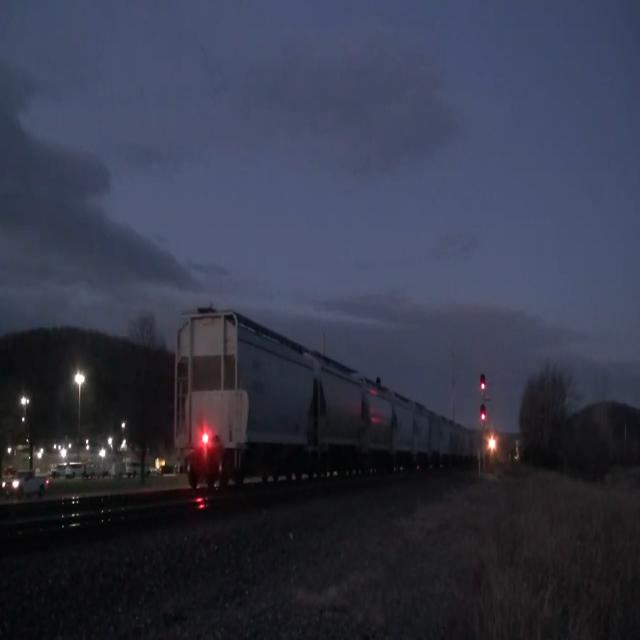hopper: (163, 302, 321, 504)
